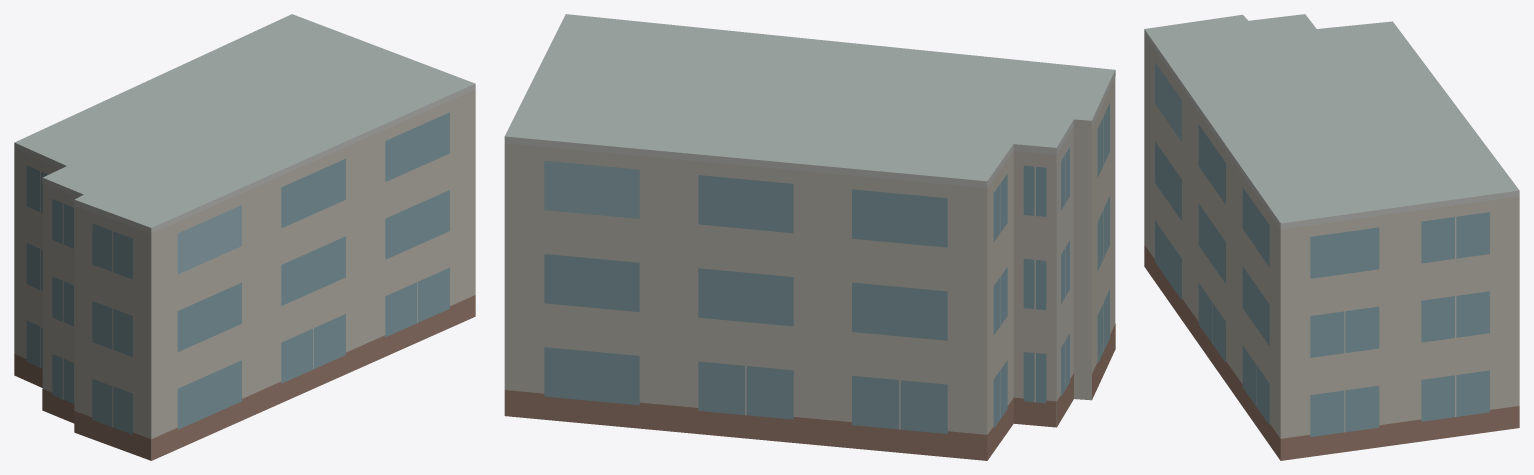
The model's file is survey-upis-32525083.glb.
The picture shows the model from 3 angles, left to right: view 1: azimuth 30°, elevation 25°; view 2: azimuth 150°, elevation 25°; view 3: azimuth 270°, elevation 25°; orthographic projection. The views are drawn at different scales.
Visible parts, largest first — view 1: survey-upis-32525083.tmp; view 2: survey-upis-32525083.tmp; view 3: survey-upis-32525083.tmp.
Part boxes in pixels (x1=…): survey-upis-32525083.tmp: x1=14, y1=14, x2=475, y2=460; survey-upis-32525083.tmp: x1=504, y1=14, x2=1115, y2=460; survey-upis-32525083.tmp: x1=1144, y1=14, x2=1519, y2=460.
Size of the model in its own units: 19.12 by 10.1 by 14.48.
